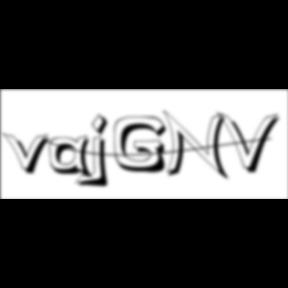G: (114, 116, 172, 176)
N: (163, 109, 233, 183)
V: (216, 110, 284, 176)
a: (50, 135, 98, 182)
j: (88, 113, 116, 191)
v: (2, 131, 56, 177)
